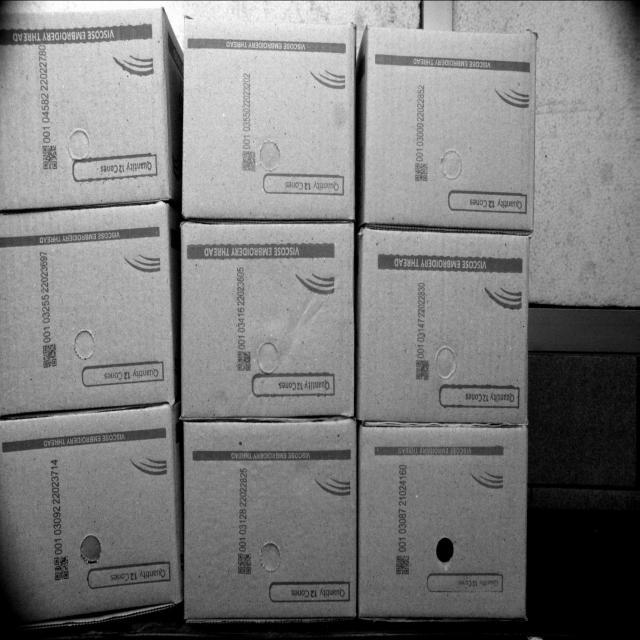box: (0, 418, 183, 620), (0, 203, 173, 407), (364, 26, 537, 224), (0, 7, 167, 206), (182, 23, 355, 214), (180, 226, 352, 414), (359, 229, 527, 421), (185, 426, 352, 618), (360, 429, 526, 617)
